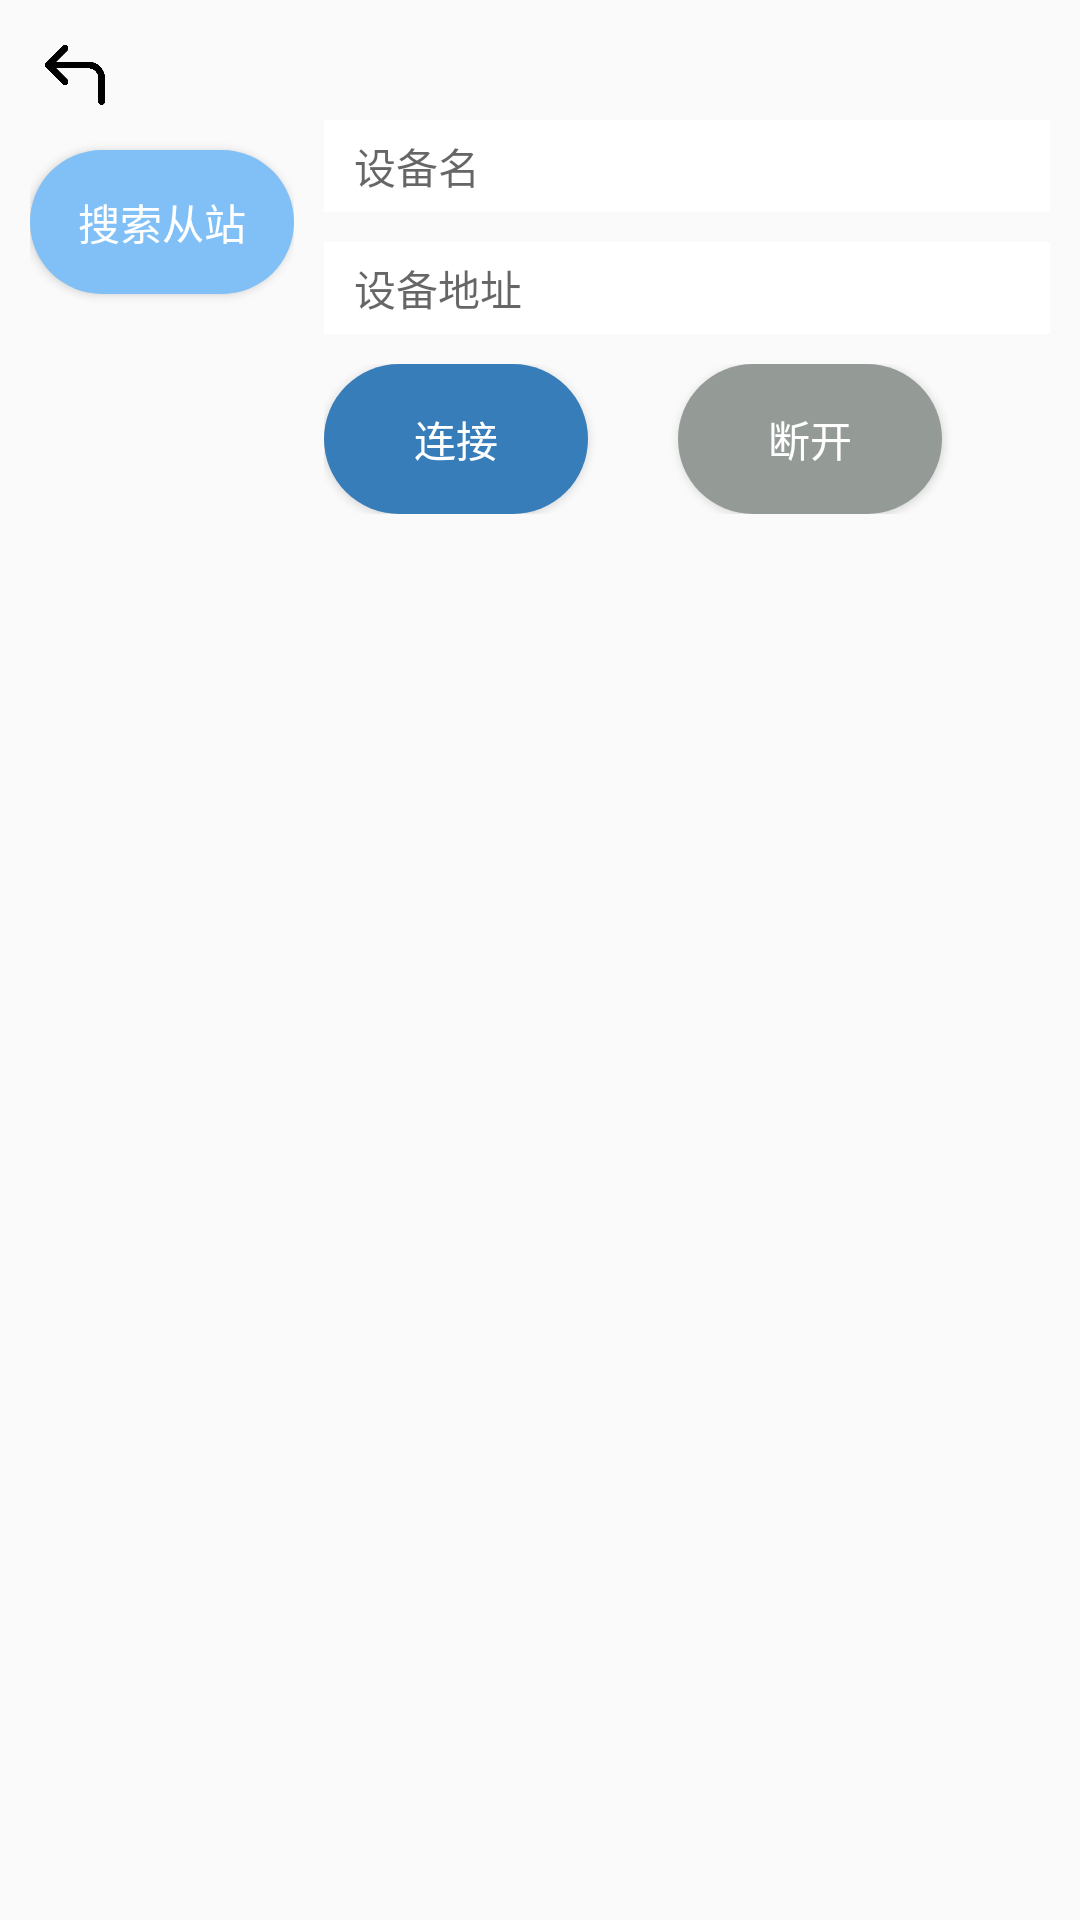

Locate icon controls on the screen. Image size 1080w x 1920h, boxes as (x1, y1, x2, y2).
back: (45, 45, 105, 105)
